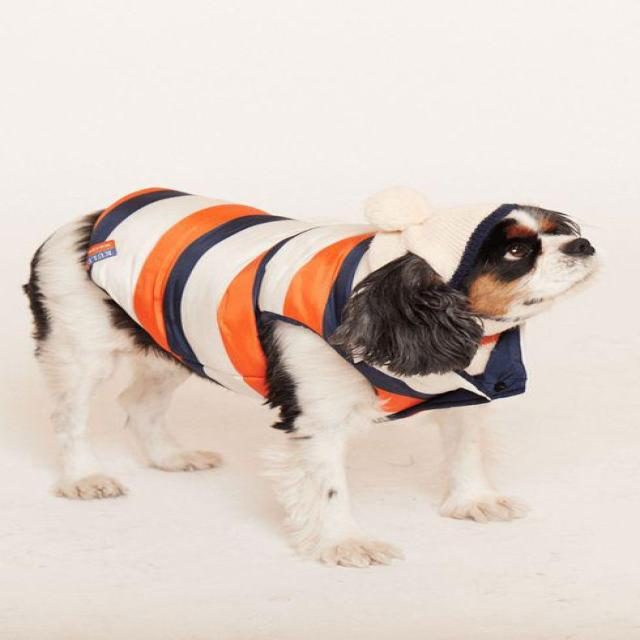Dog: (338, 180, 613, 386)
